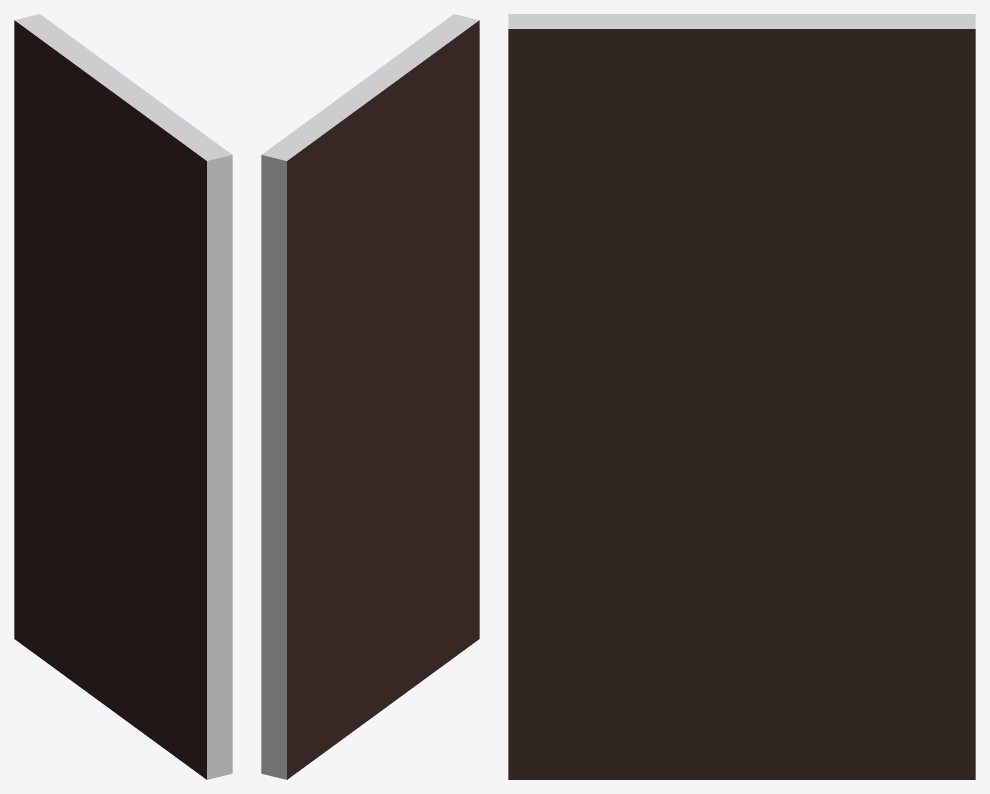
File: uks.fbx
3 renders of one model, left to right at view 1: azimuth 30°, elevation 25°; view 2: azimuth 150°, elevation 25°; view 3: azimuth 270°, elevation 25°, orthographic. The views are drawn at different scales.
Visible parts, largest first — view 1: ruum.001; view 2: ruum.001; view 3: ruum.001.
Boxes of the visible parts, x1,y1,x2,y2 form: ruum.001: (14, 14, 232, 779); ruum.001: (261, 14, 479, 779); ruum.001: (508, 14, 975, 779).
Bounding box in the file's own units: 80 × 1853 × 1045.
